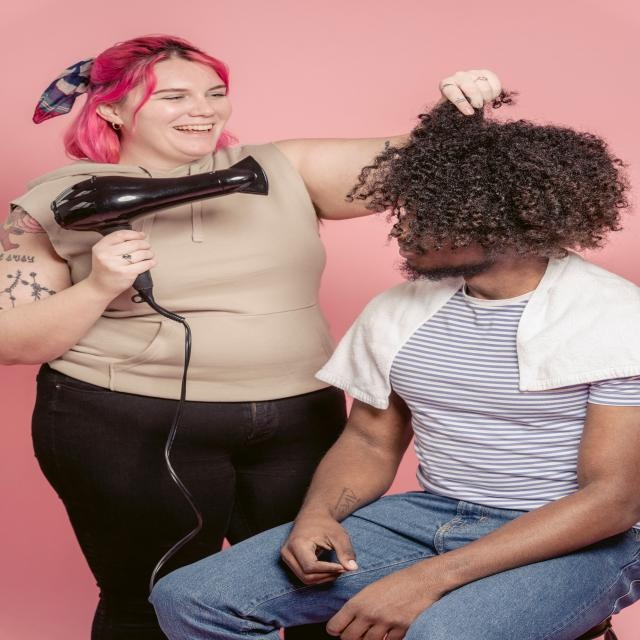dryer: (50, 155, 274, 321)
